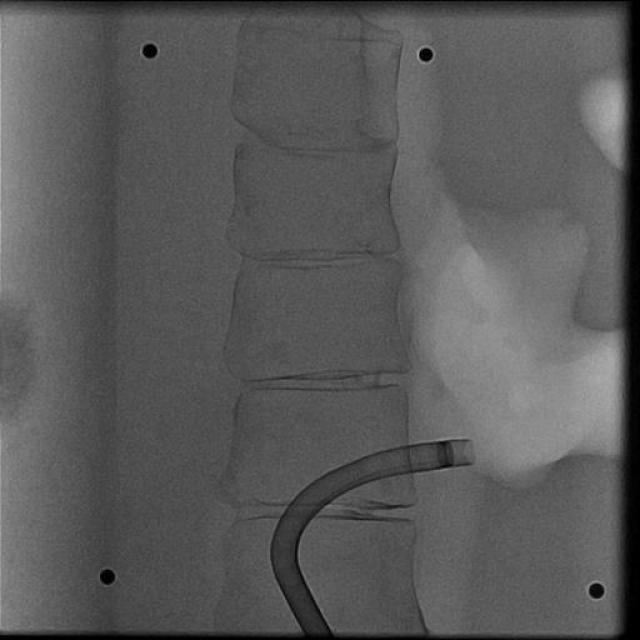bend: (270, 544, 298, 566)
entry: (305, 630, 333, 635)
marker: (434, 441, 454, 468)
tip: (464, 439, 475, 466)
